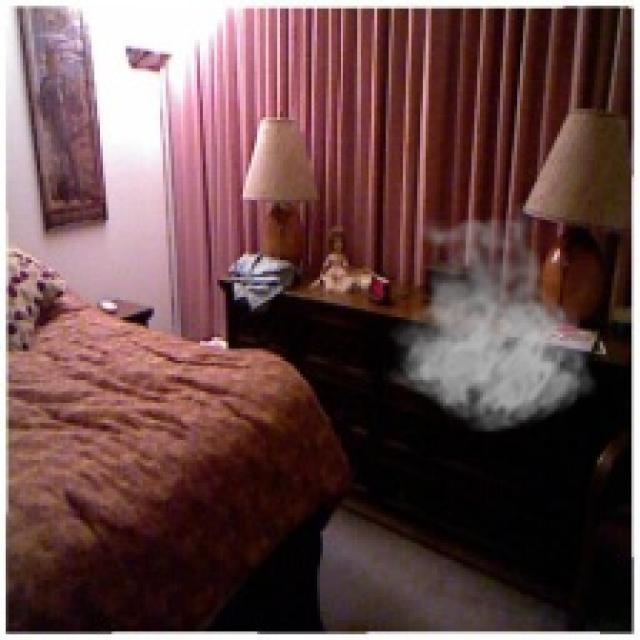Smoke: (382, 200, 598, 434)
